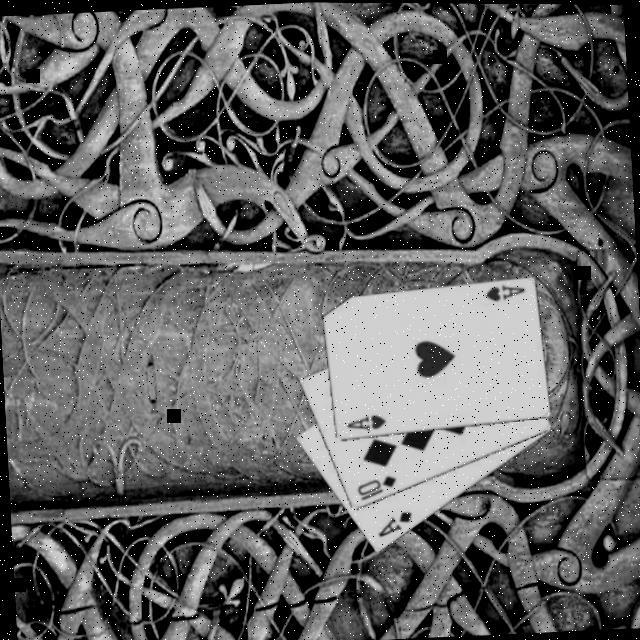10D: (353, 469, 401, 502)
AD: (373, 508, 418, 540)
AH: (482, 279, 528, 303), (344, 410, 390, 433)
